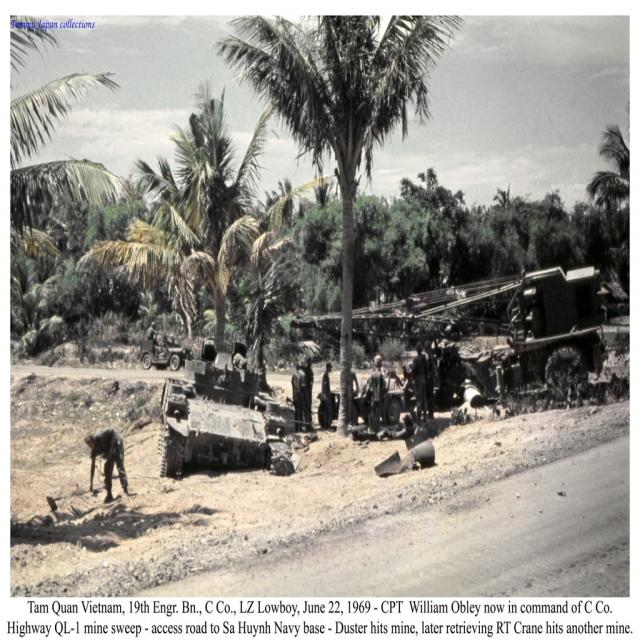tank: (158, 336, 297, 477)
